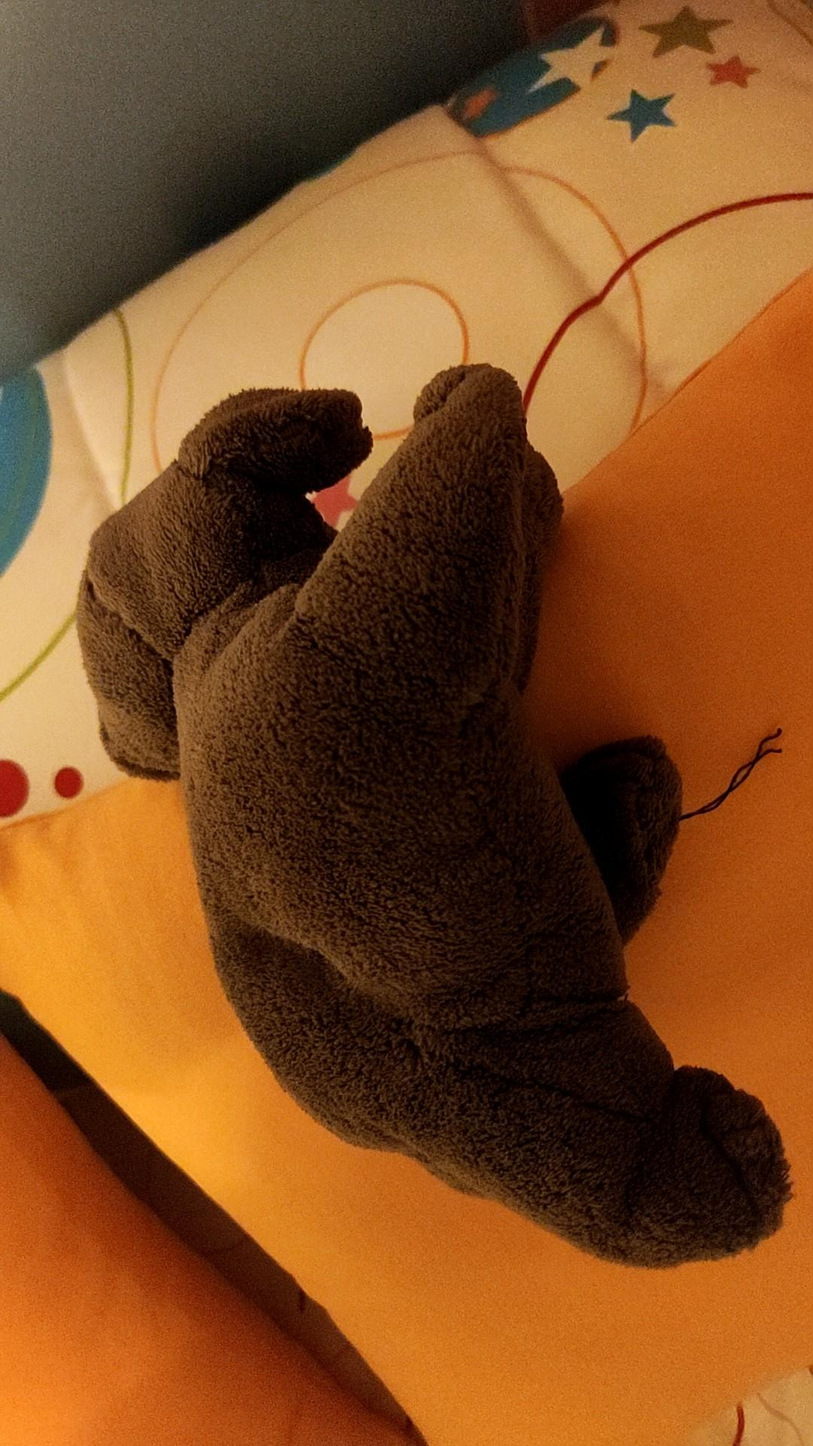toy: (77, 365, 790, 1267)
